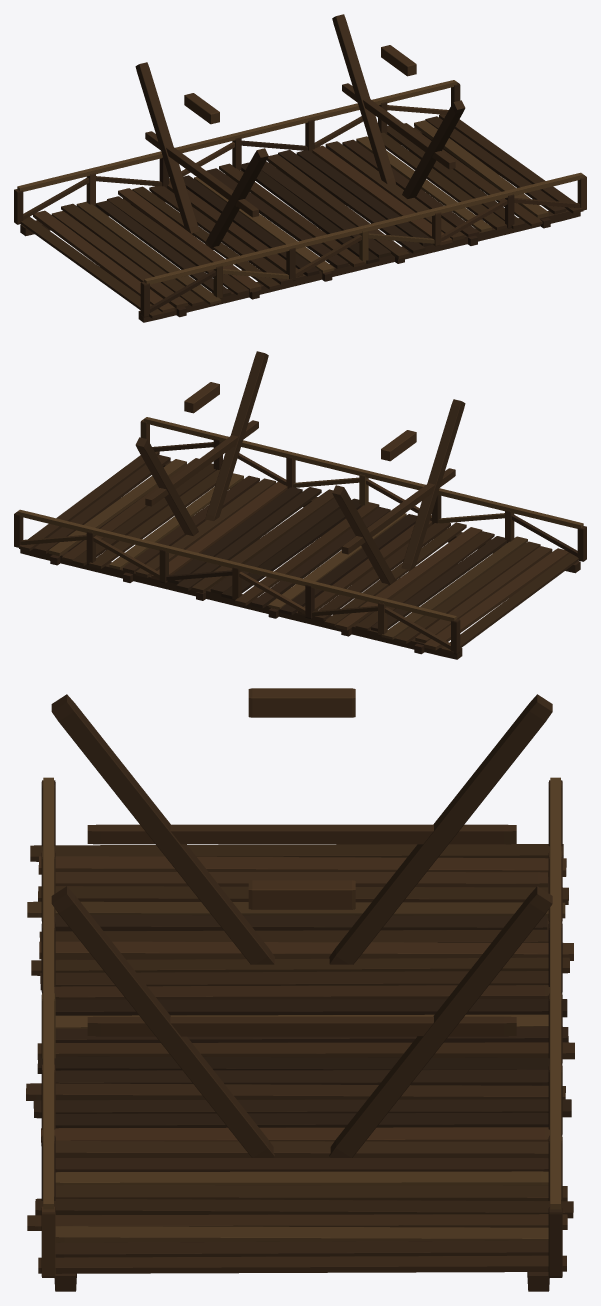
Rendered from bridge.glb.
The picture shows the model from 3 angles, top to bottom: view 1: azimuth 30°, elevation 25°; view 2: azimuth 150°, elevation 25°; view 3: azimuth 270°, elevation 25°; orthographic projection. The views are drawn at different scales.
Visible parts, largest first — view 1: bridge; view 2: bridge; view 3: bridge.
Boxes of the visible parts, x1,y1,x2,y2 form: bridge: (14,14,586,322); bridge: (14,351,586,659); bridge: (26,688,574,1291).
Size of the model in its own units: 16.22 by 5.09 by 8.7.
